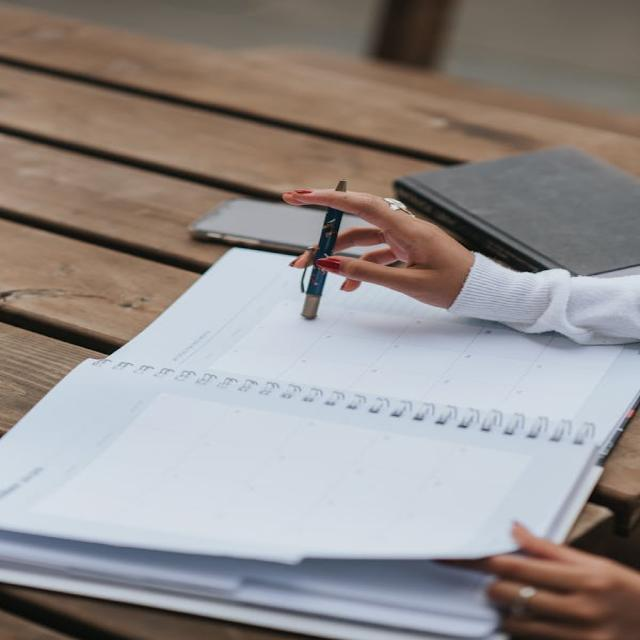pen: (282, 176, 358, 320)
